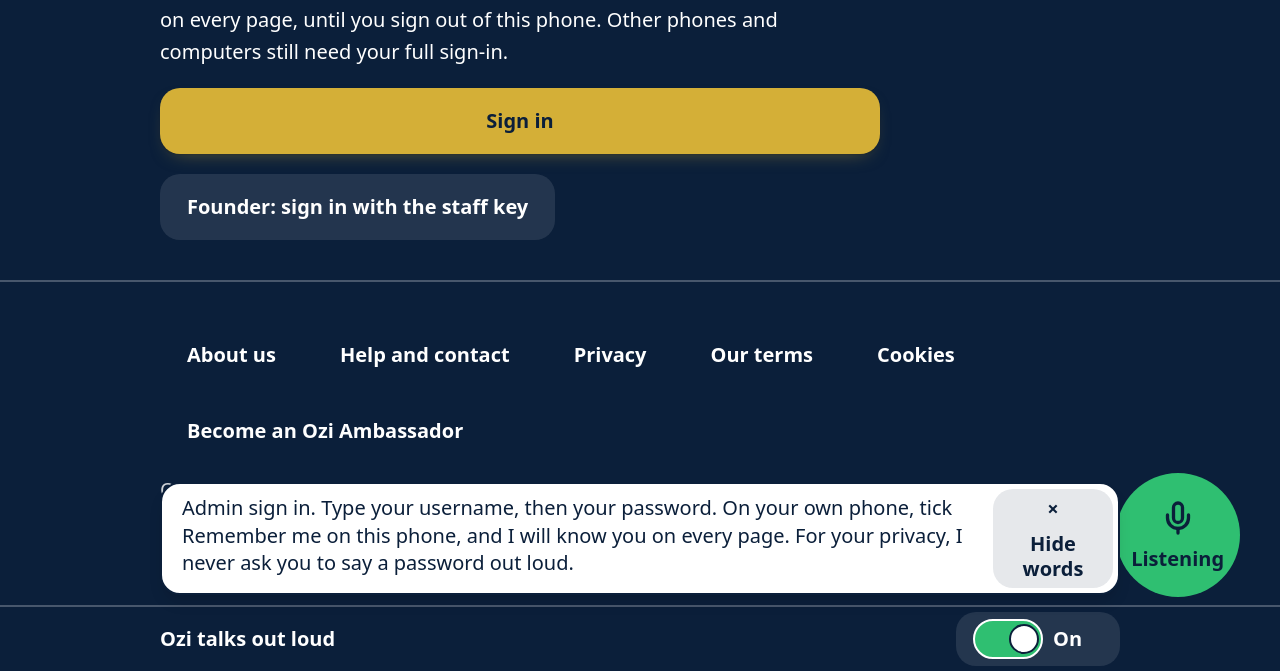
Remember me on this phone › is never offered for the staff key, which stays for this tab only
(page scrolled)
Click the button "Founder: sign in with the staff key" at (358, 207), box top-left (160, 174), bottom-right (555, 240)
(page scrolled)
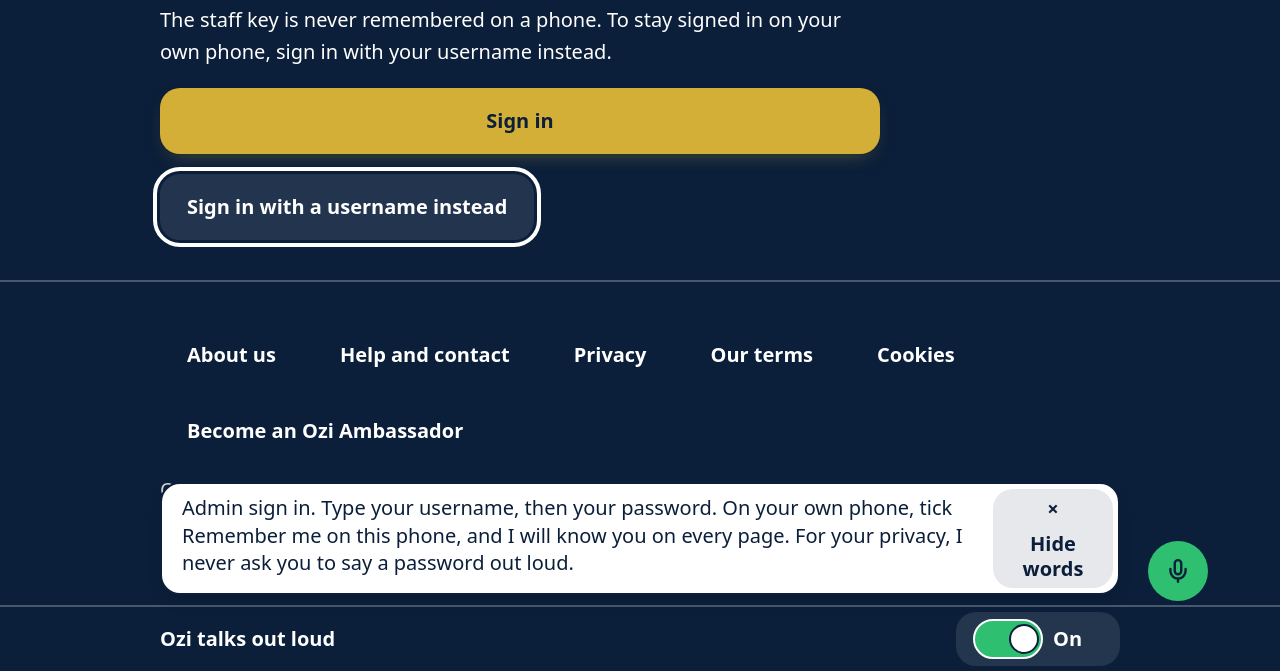
expect the text "never remembered on a phone" is shown: met, box top-left (160, 6), bottom-right (841, 65)
